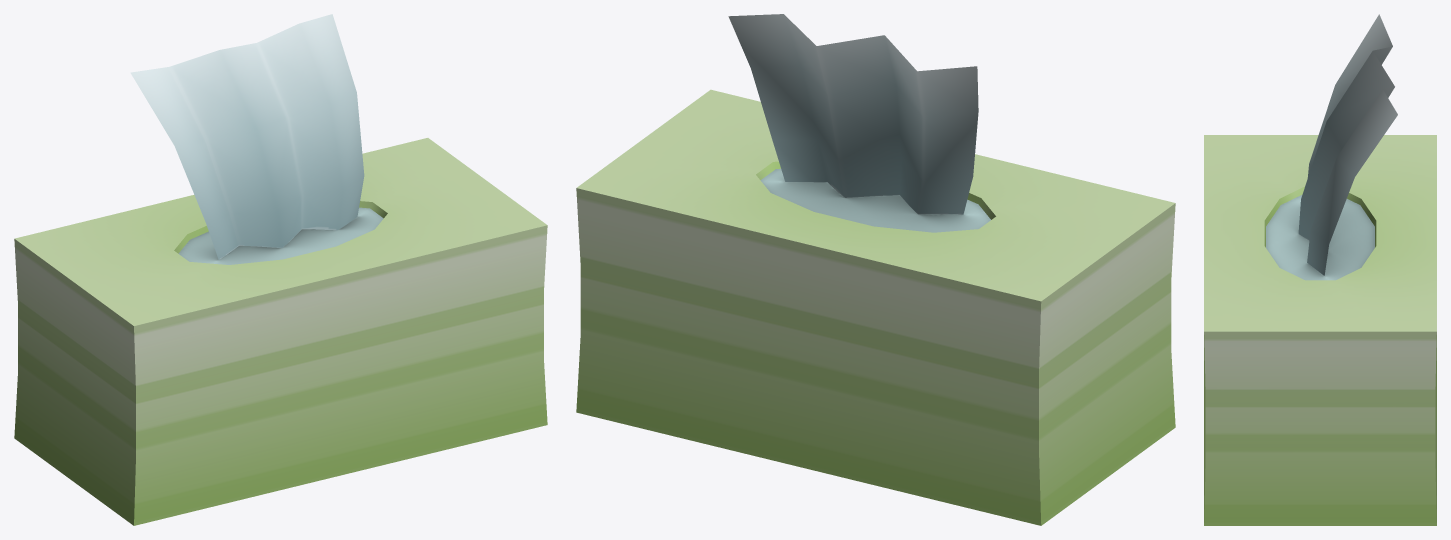
File: MM_tissueBox.fbx
The picture shows the model from 3 angles, left to right: view 1: azimuth 30°, elevation 25°; view 2: azimuth 150°, elevation 25°; view 3: azimuth 270°, elevation 25°; orthographic projection. The views are drawn at different scales.
Visible parts, largest first — view 1: Tissue_Box_low; view 2: Tissue_Box_low; view 3: Tissue_Box_low.
Part boxes in pixels (<box>): Tissue_Box_low: <box>14,14,547,525</box>; Tissue_Box_low: <box>576,14,1175,525</box>; Tissue_Box_low: <box>1204,14,1436,525</box>.
Bounding box in the file's own units: 0.7795 × 0.6707 × 0.3904.
